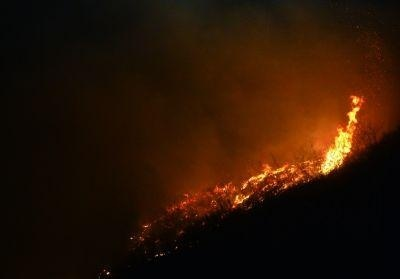fire: (168, 100, 367, 221)
